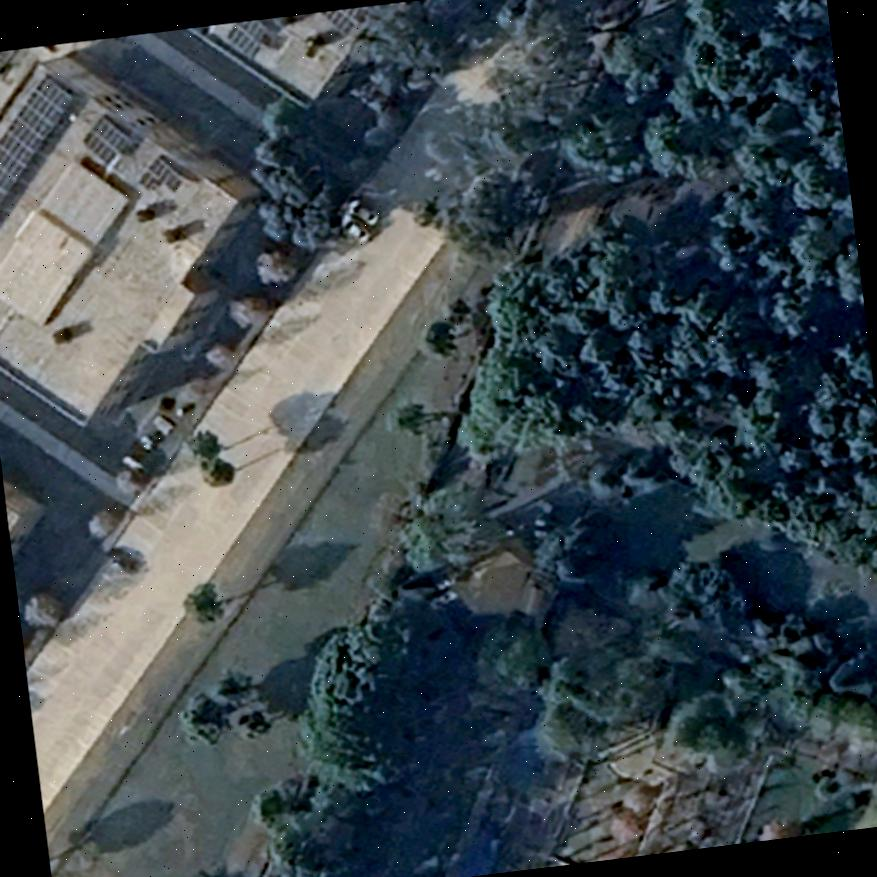Solarpanel: (0, 67, 85, 218), (77, 116, 134, 171), (225, 18, 271, 58), (321, 5, 372, 37), (135, 152, 170, 192), (160, 168, 184, 192)
